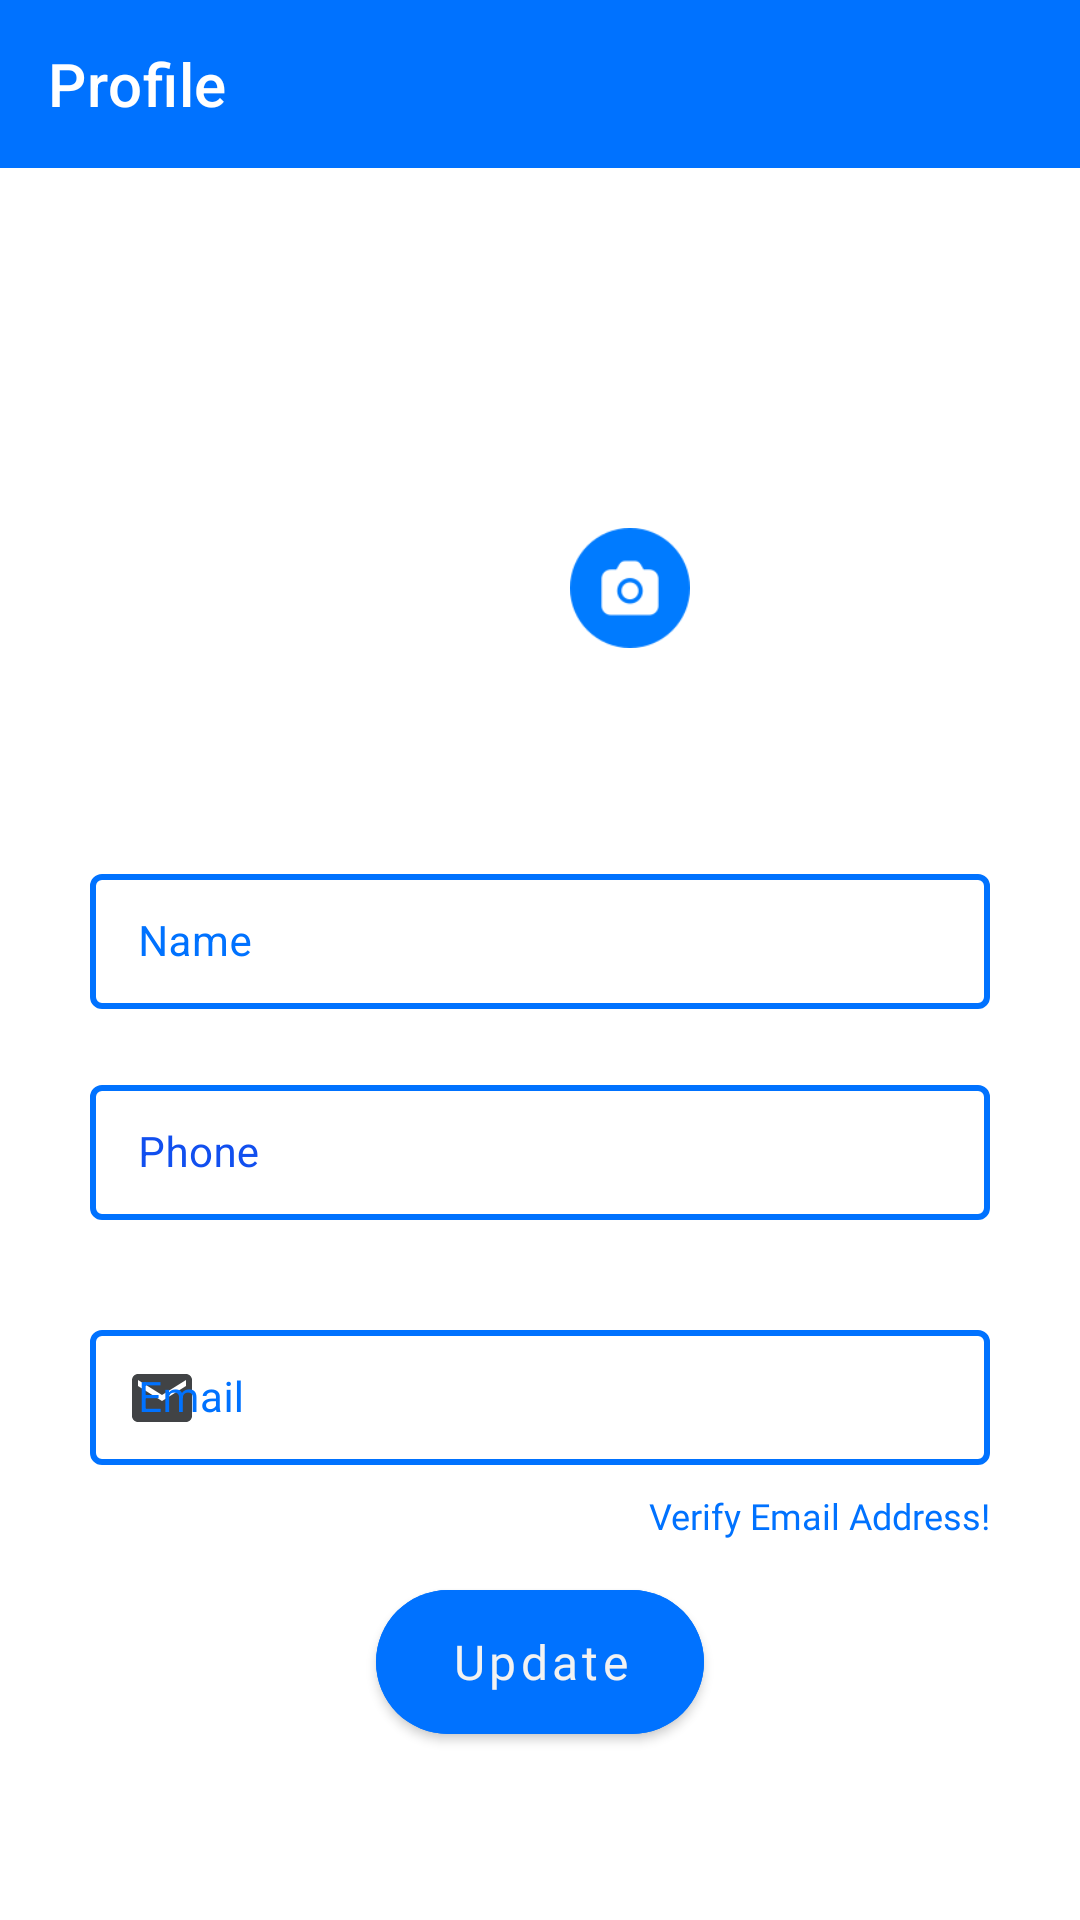

Screen size 1080*1920. Icon name, then its center in pixels as point (x, y):
updatepp: point (630, 588)
